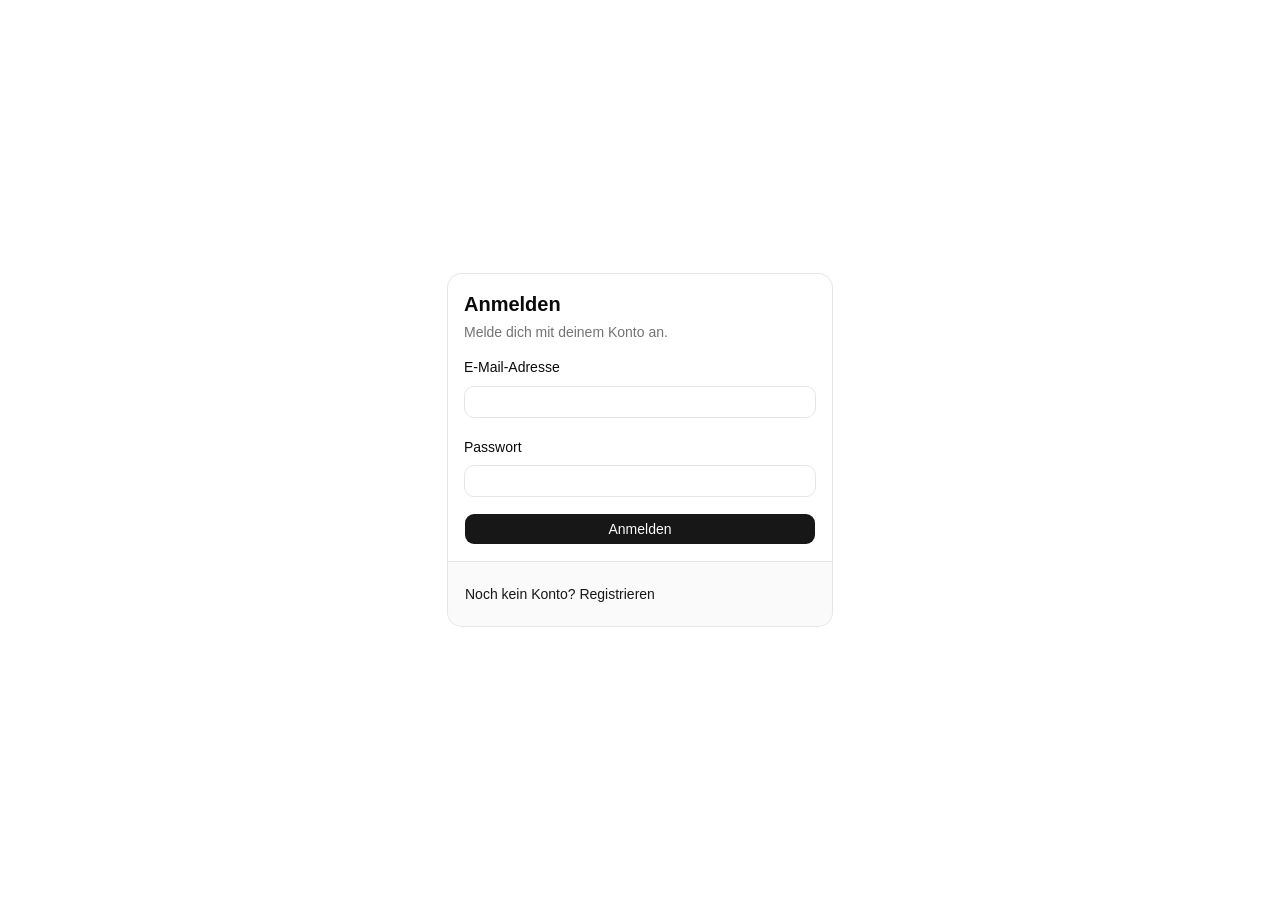
Test: app routing and layout › sends an anonymous visitor to sign-in and, after signing in, back to the wanted address
This screenshot has width=1280, height=900.
Expected: the heading "Anmelden" is shown, x1=464 y1=293 x2=561 y2=315
Type "ben@example.com" into the field labelled "E-Mail-Adresse".
click(640, 402); type("ben@example.com")  # box x1=464 y1=386 x2=816 y2=418
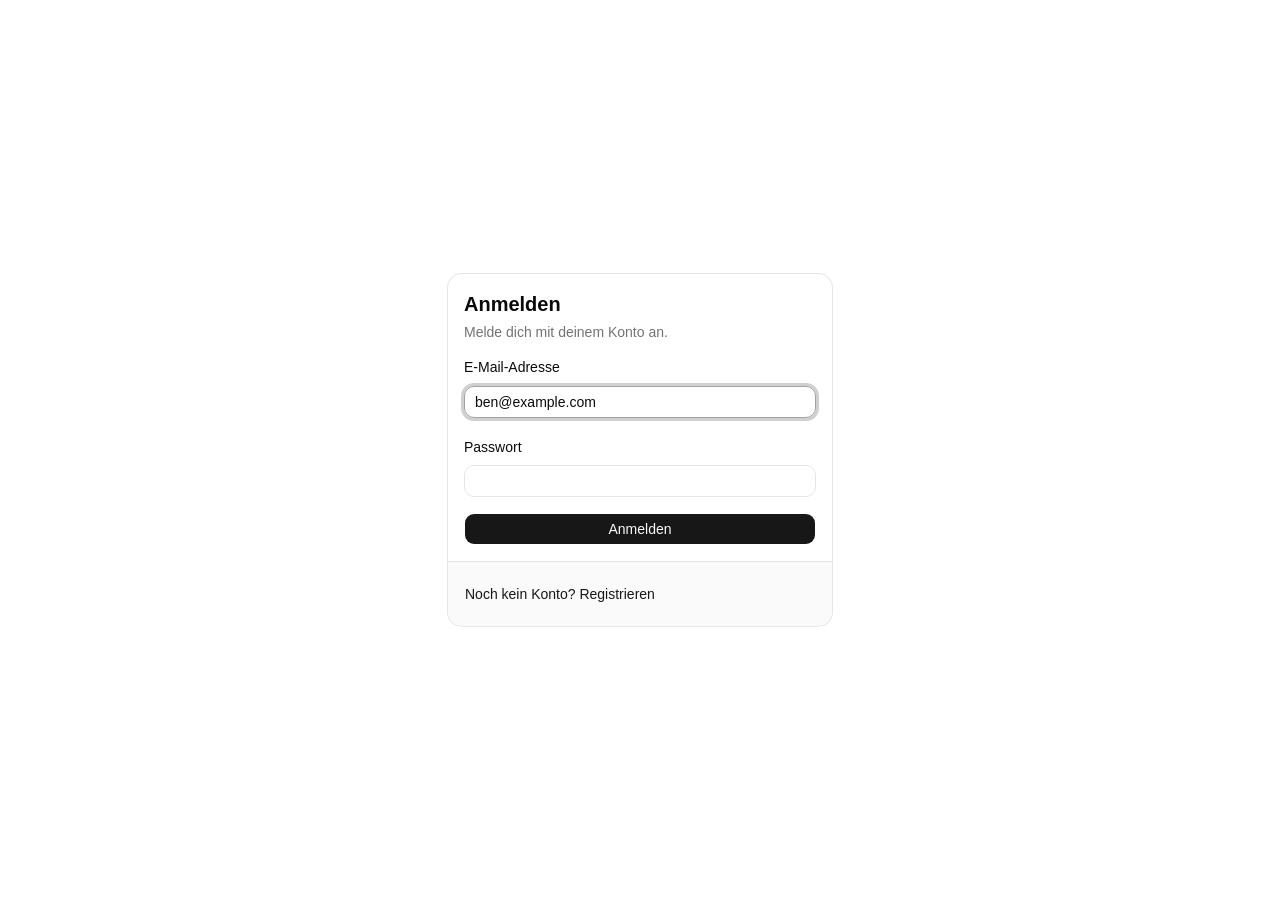
Type "correct horse battery" into the password field labelled "Passwort".
click(640, 481); type("correct horse battery")  # box x1=464 y1=465 x2=816 y2=497
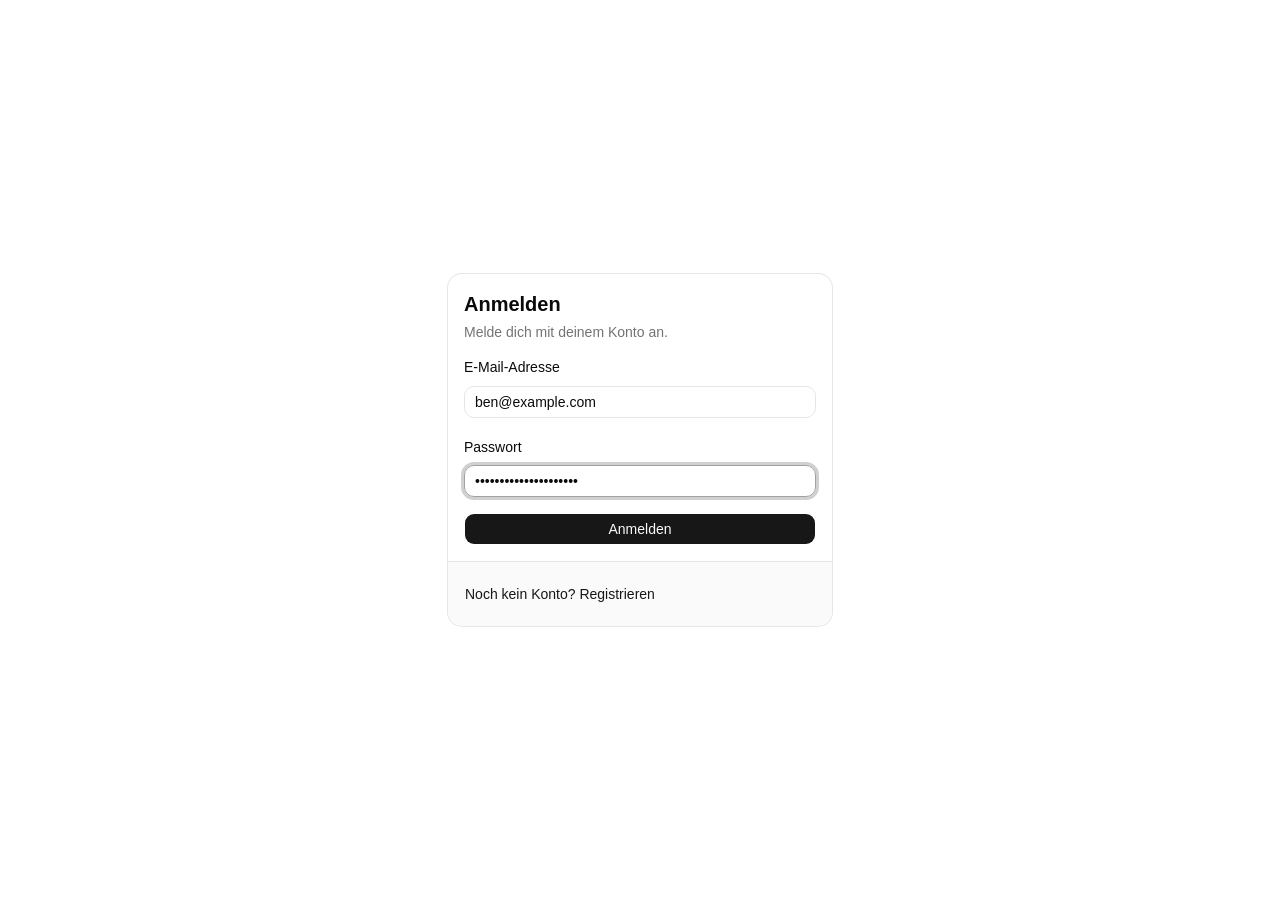
Click the button "Anmelden".
click(640, 529)  # box x1=464 y1=513 x2=816 y2=545
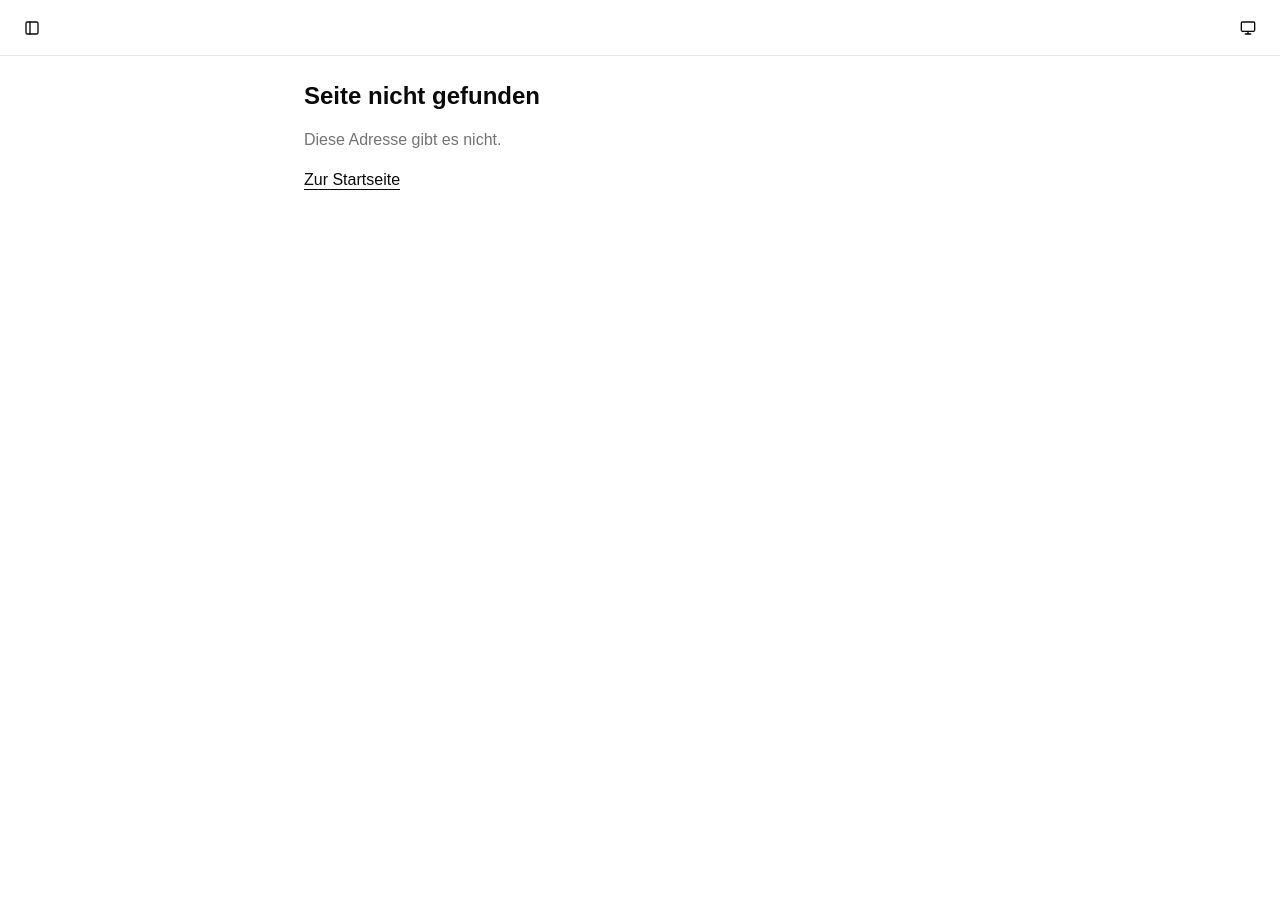
Expected: the heading "Seite nicht gefunden" is shown, x1=304 y1=82 x2=540 y2=109
